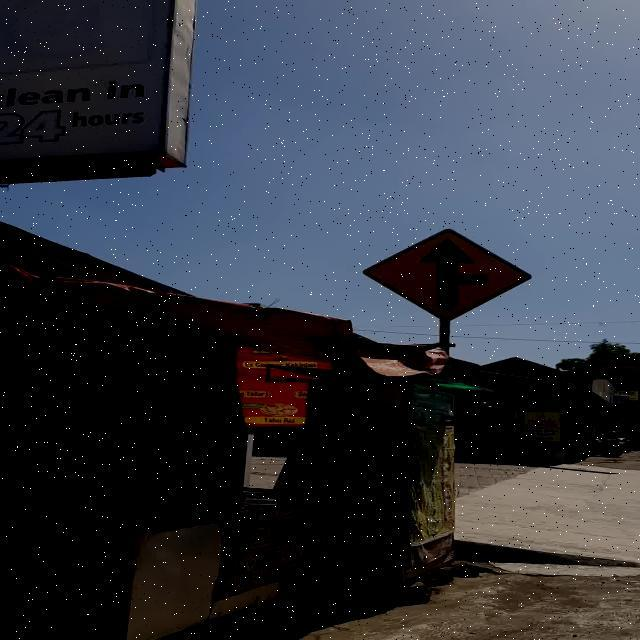Persimpangan 3 Prioritas Kanan: (361, 228, 533, 322)
